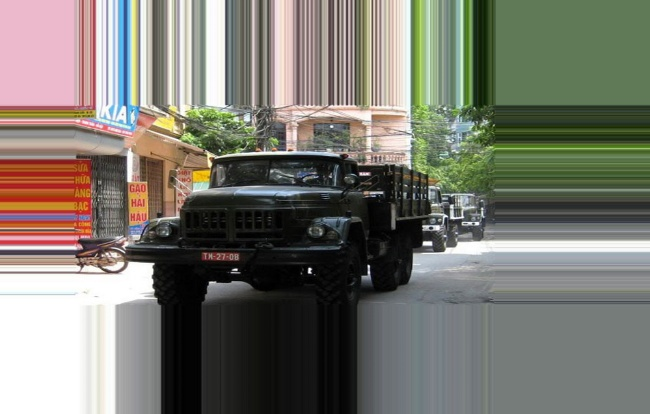plate: (198, 250, 243, 264)
